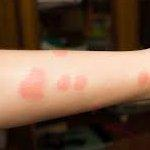Chiggers: (14, 64, 56, 107), (53, 73, 87, 91), (137, 72, 149, 86), (54, 50, 67, 57)
